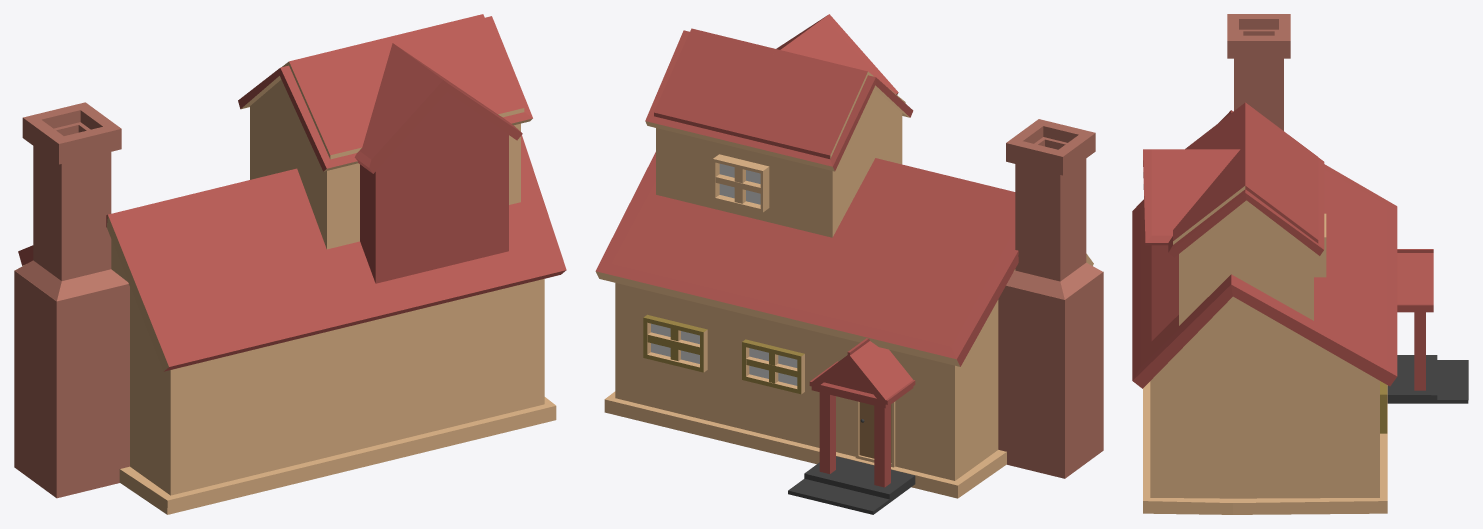
File: House.fbx
The picture shows the model from 3 angles, left to right: view 1: azimuth 30°, elevation 25°; view 2: azimuth 150°, elevation 25°; view 3: azimuth 270°, elevation 25°; orthographic projection. The views are drawn at different scales.
Parts seen in each view (by area): view 1: Cube, Cube.010, Cube.003, Cube.002, Cube.007, Cube.001, Cube.008; view 2: Cube, Cube.010, Cube.003, Cube.007, Cube.001, Cube.004, Cube.008, Cube.005, Cube.006, Cube.009; view 3: Cube, Cube.010, Cube.007, Cube.001, Cube.003, Cube.008, Cube.004, Cube.002, Cube.006.
Boxes of the visible parts, x1=… form: Cube: x1=23, y1=215, x2=556, y2=514; Cube.010: x1=18, y1=135, x2=566, y2=371; Cube.003: x1=14, y1=102, x2=129, y2=498; Cube.002: x1=360, y1=92, x2=508, y2=283; Cube.007: x1=238, y1=14, x2=532, y2=171; Cube.001: x1=241, y1=61, x2=532, y2=249; Cube.008: x1=354, y1=43, x2=522, y2=173; Cube: x1=595, y1=253, x2=1093, y2=514; Cube.010: x1=596, y1=152, x2=1018, y2=366; Cube.003: x1=998, y1=119, x2=1103, y2=478; Cube.007: x1=645, y1=28, x2=913, y2=170; Cube.001: x1=645, y1=71, x2=909, y2=237; Cube.004: x1=809, y1=338, x2=915, y2=408; Cube.008: x1=776, y1=14, x2=898, y2=94; Cube.005: x1=874, y1=404, x2=890, y2=487; Cube.006: x1=819, y1=392, x2=835, y2=473; Cube.009: x1=719, y1=163, x2=760, y2=204; Cube: x1=1143, y1=296, x2=1468, y2=514; Cube.010: x1=1132, y1=110, x2=1397, y2=388; Cube.007: x1=1168, y1=102, x2=1324, y2=257; Cube.001: x1=1173, y1=186, x2=1326, y2=325; Cube.003: x1=1227, y1=14, x2=1290, y2=130; Cube.008: x1=1143, y1=149, x2=1240, y2=242; Cube.004: x1=1397, y1=249, x2=1433, y2=312; Cube.002: x1=1145, y1=243, x2=1178, y2=340; Cube.006: x1=1414, y1=312, x2=1425, y2=390.
Size of the model in its own units: 1263 by 955 by 903.
